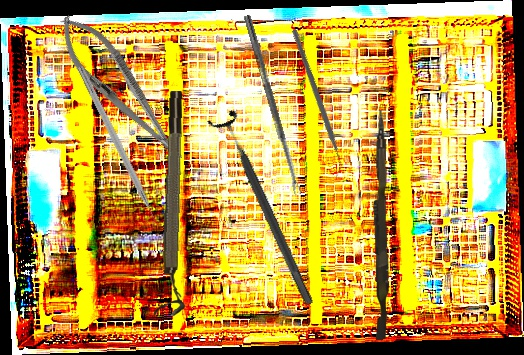Chopper: (237, 28, 393, 179), (68, 65, 163, 236)
Fixation Ring: (206, 107, 325, 312), (154, 90, 196, 317)
Needle Holder: (46, 4, 196, 175)
Pusher: (368, 110, 393, 340)
Surgical Spoon: (242, 14, 302, 196)
